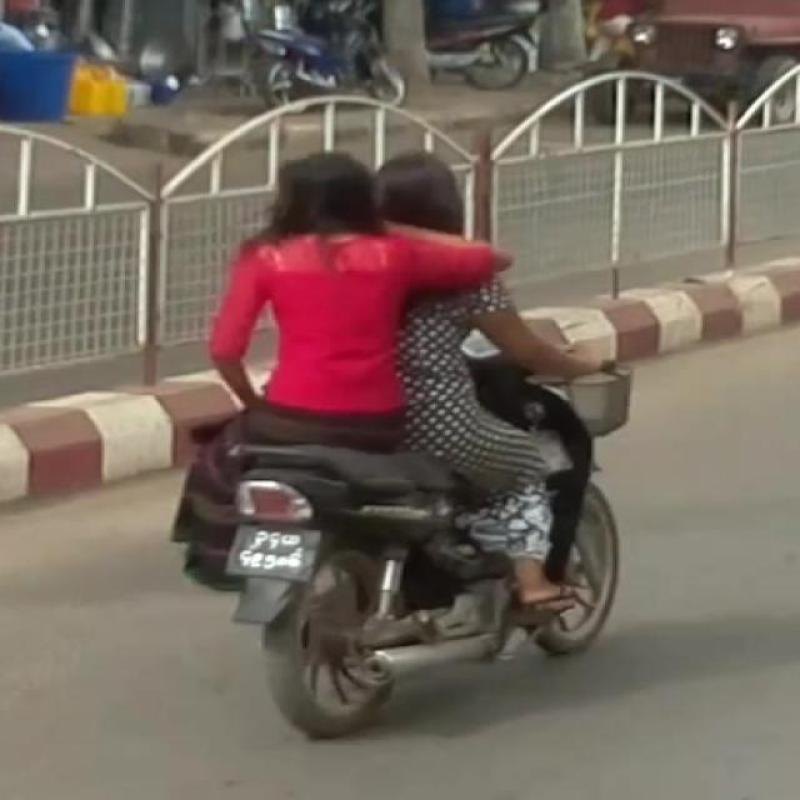nohelmet: (226, 127, 380, 273)
